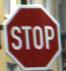Stop sign: (0, 0, 65, 70)
